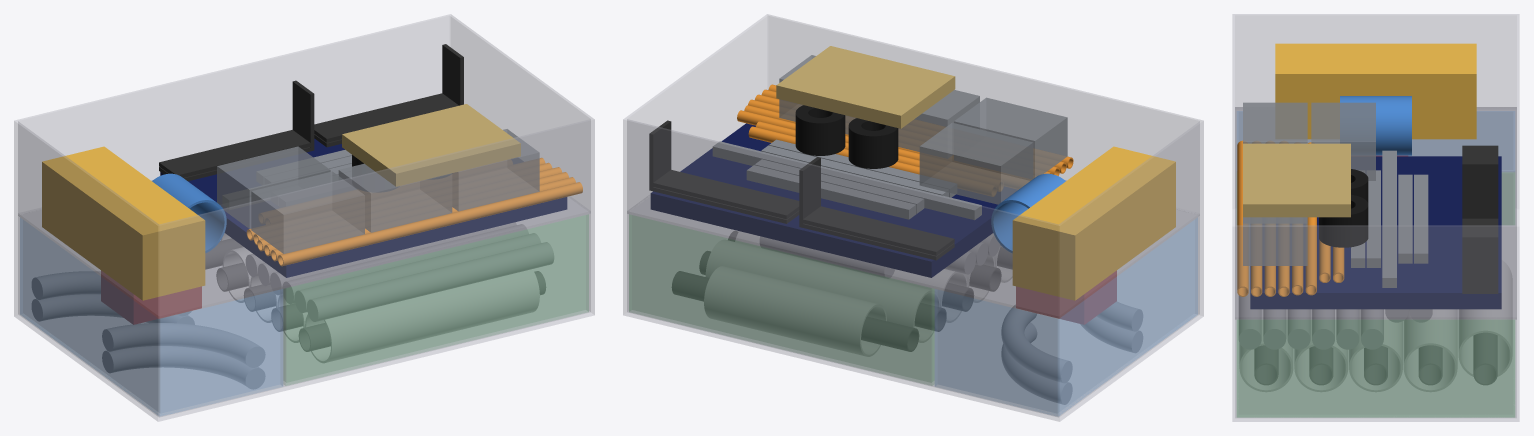
The picture shows the model from 3 angles, left to right: view 1: azimuth 30°, elevation 25°; view 2: azimuth 150°, elevation 25°; view 3: azimuth 270°, elevation 25°; orthographic projection.
Visible parts, largest first — view 1: tank_30cm, nutrient_bucket, clean_bucket, arm_folded_ASSUMED, grow_pipe_1, shelf, sandbag_folded_4, collar_half_1_ENVELOPE, solar_panel_30W, track_long_1, collar_half_2_ENVELOPE, collar_half_4_ENVELOPE (+27 smaller); view 2: tank_30cm, nutrient_bucket, clean_bucket, arm_folded_ASSUMED, solar_panel_30W, cleanout_section, shelf, sandbag_folded_4, collar_half_4_ENVELOPE, grow_pipe_4, collar_half_1_ENVELOPE, fold_out_foot_3 (+32 smaller); view 3: tank_30cm, nutrient_bucket, arm_folded_ASSUMED, solar_panel_30W, shelf, sandbag_folded_4, sleeve, collar_half_4_ENVELOPE, collar_half_3_ENVELOPE, grow_pipe_4, cleanout_section, clean_bucket (+37 smaller).
Boxes of the visible parts, x1=… form: tank_30cm: x1=14, y1=14, x2=594, y2=421; nutrient_bucket: x1=283, y1=214, x2=588, y2=385; clean_bucket: x1=20, y1=217, x2=282, y2=416; arm_folded_ASSUMED: x1=42, y1=146, x2=205, y2=300; grow_pipe_1: x1=305, y1=269, x2=539, y2=362; shelf: x1=18, y1=180, x2=590, y2=318; sandbag_folded_4: x1=342, y1=104, x2=520, y2=176; collar_half_1_ENVELOPE: x1=251, y1=171, x2=364, y2=253; solar_panel_30W: x1=160, y1=138, x2=567, y2=277; track_long_1: x1=307, y1=242, x2=553, y2=321; collar_half_2_ENVELOPE: x1=338, y1=163, x2=452, y2=232; collar_half_4_ENVELOPE: x1=217, y1=146, x2=330, y2=228; tank_30cm: x1=623, y1=14, x2=1203, y2=421; nutrient_bucket: x1=629, y1=214, x2=934, y2=385; clean_bucket: x1=935, y1=217, x2=1197, y2=416; arm_folded_ASSUMED: x1=1012, y1=146, x2=1175, y2=300; solar_panel_30W: x1=650, y1=123, x2=1016, y2=277; cleanout_section: x1=704, y1=266, x2=886, y2=356; shelf: x1=627, y1=180, x2=1199, y2=318; sandbag_folded_4: x1=776, y1=46, x2=955, y2=118; collar_half_4_ENVELOPE: x1=919, y1=122, x2=1033, y2=204; grow_pipe_4: x1=706, y1=240, x2=939, y2=342; collar_half_1_ENVELOPE: x1=954, y1=97, x2=1067, y2=178; fold_out_foot_3: x1=799, y1=157, x2=954, y2=255; tank_30cm: x1=1232, y1=14, x2=1519, y2=421; nutrient_bucket: x1=1237, y1=172, x2=1514, y2=417; arm_folded_ASSUMED: x1=1275, y1=43, x2=1476, y2=139; solar_panel_30W: x1=1250, y1=156, x2=1501, y2=309; shelf: x1=1235, y1=107, x2=1516, y2=319; sandbag_folded_4: x1=1243, y1=143, x2=1350, y2=207; sleeve: x1=1340, y1=96, x2=1411, y2=155; collar_half_4_ENVELOPE: x1=1311, y1=102, x2=1375, y2=180; collar_half_3_ENVELOPE: x1=1243, y1=217, x2=1307, y2=265; grow_pipe_4: x1=1404, y1=309, x2=1457, y2=391; cleanout_section: x1=1459, y1=260, x2=1512, y2=376; clean_bucket: x1=1237, y1=111, x2=1514, y2=171.
Bounding box in the file's own units: 700 × 300 × 400.
